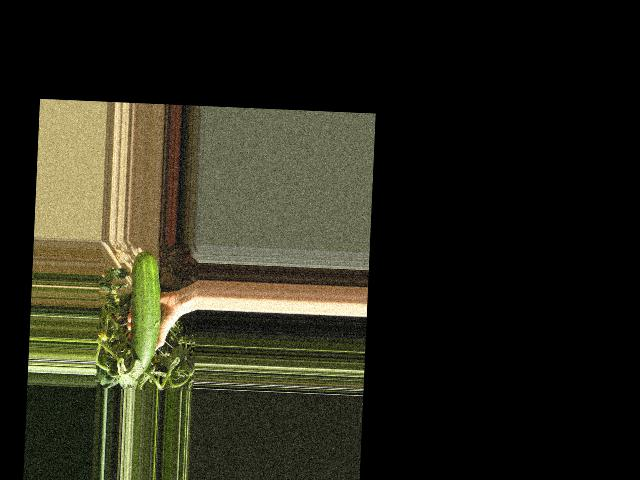cucumber: (127, 250, 163, 373)
